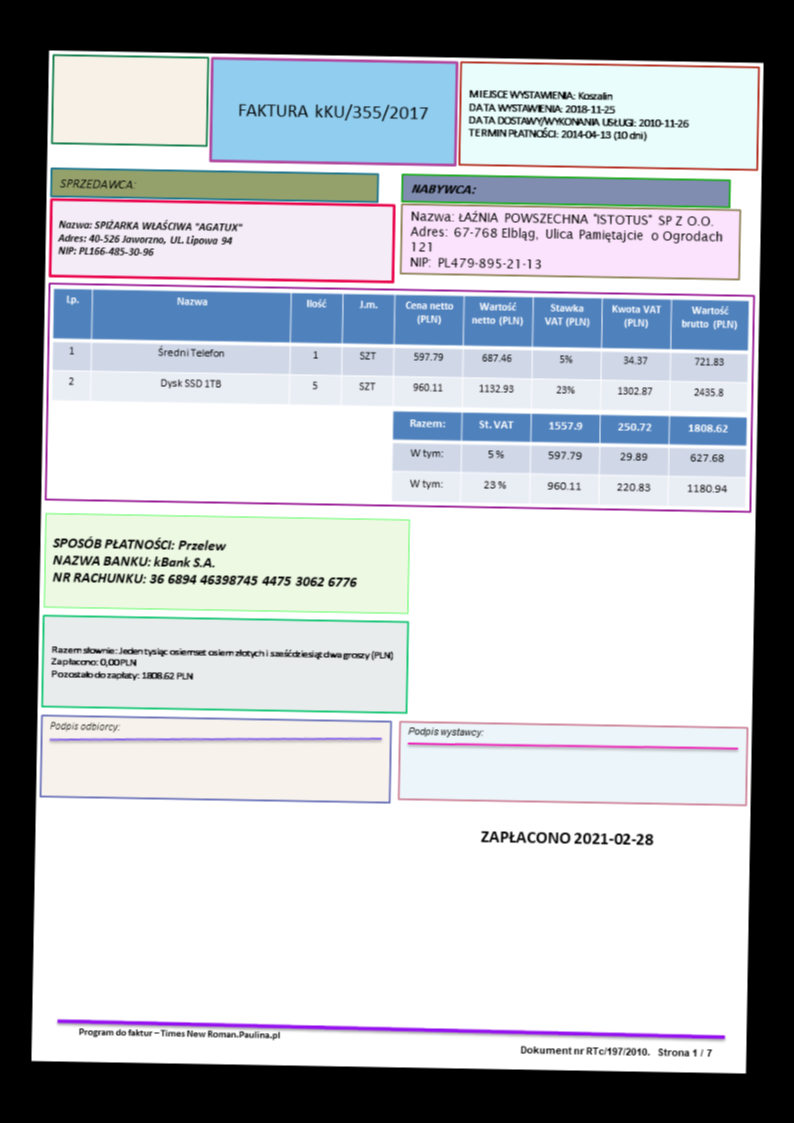Table: (50, 287, 749, 413), (390, 409, 749, 509)
TextBox: (406, 207, 724, 274), (48, 530, 359, 593), (48, 640, 397, 687), (466, 83, 690, 144), (55, 216, 244, 260), (235, 98, 429, 124), (518, 1041, 716, 1060), (75, 1024, 283, 1042), (478, 826, 655, 847), (56, 173, 137, 192), (406, 723, 486, 741), (47, 716, 121, 734), (409, 179, 477, 197)
